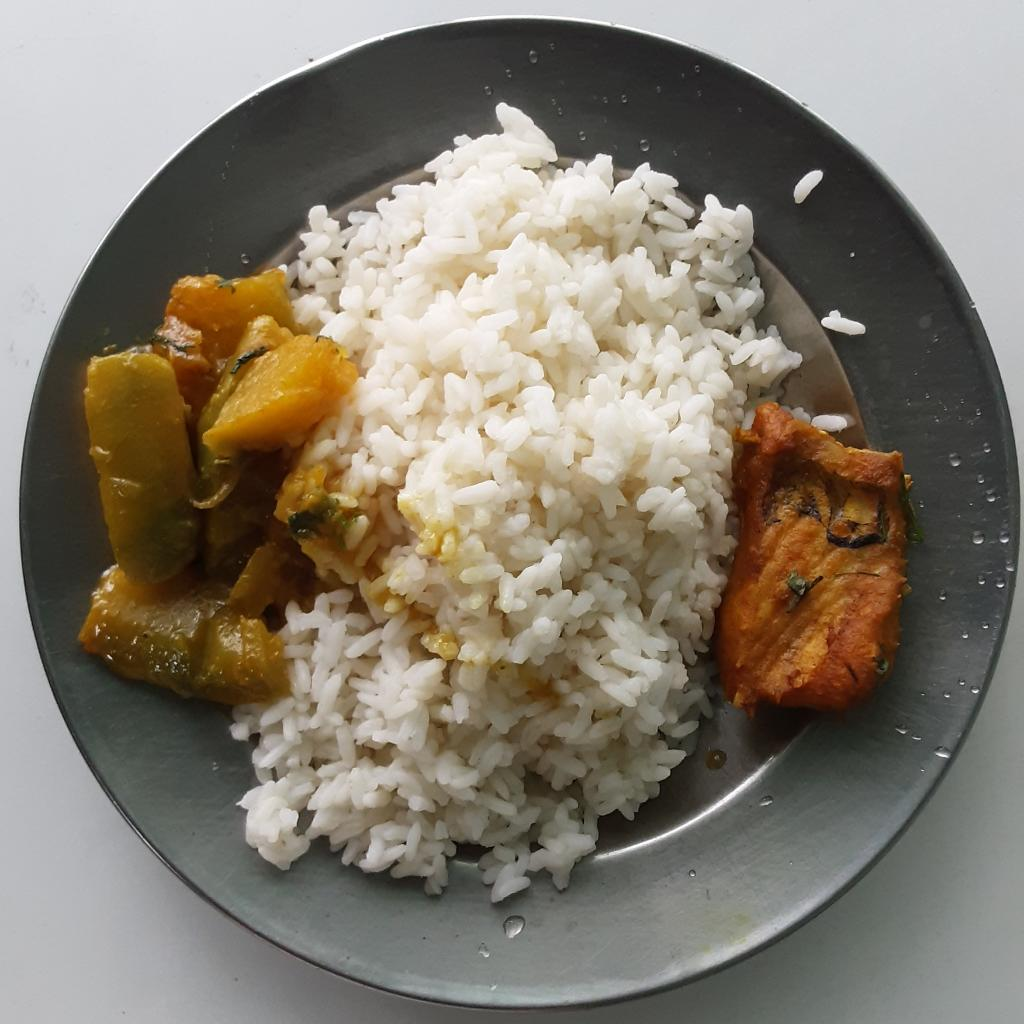dundol: (78, 264, 362, 700)
fish: (717, 401, 917, 720)
rice: (227, 97, 806, 905)
